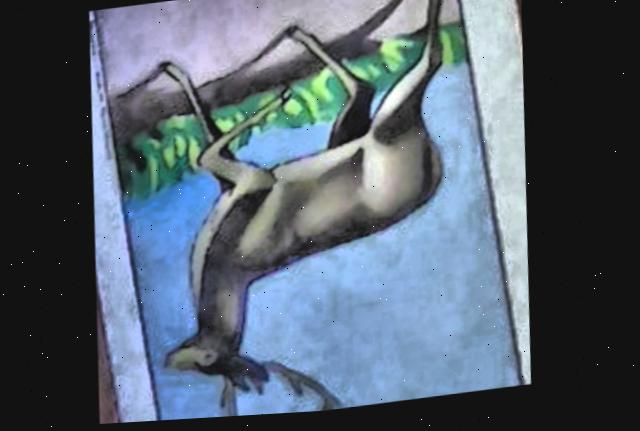El Venado: (97, 0, 524, 422)
